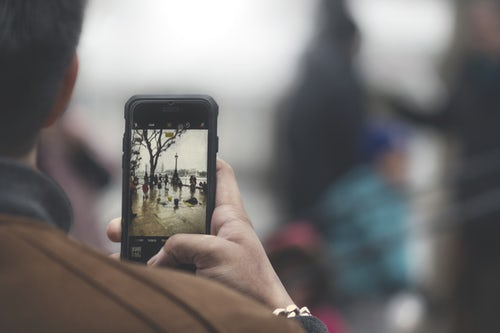phone: (120, 93, 223, 268)
